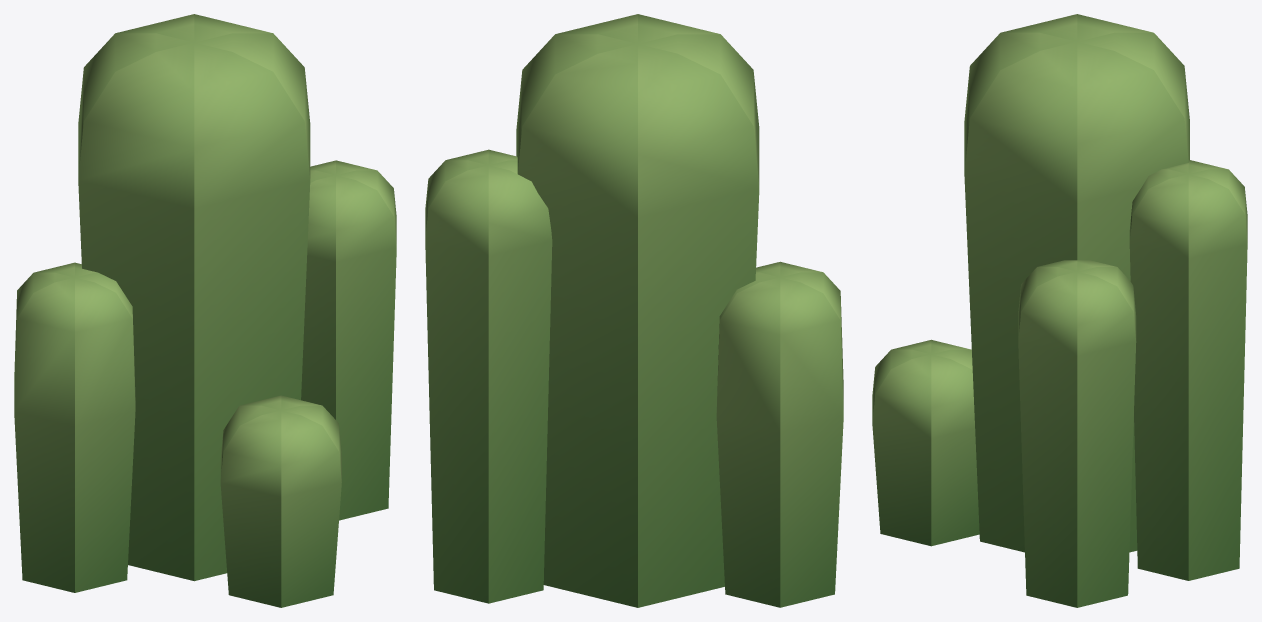
Rendered from cactus.glb.
The picture shows the model from 3 angles, left to right: view 1: azimuth 30°, elevation 25°; view 2: azimuth 150°, elevation 25°; view 3: azimuth 270°, elevation 25°; orthographic projection. The views are drawn at different scales.
Parts seen in each view (by area): view 1: cactus_C; view 2: cactus_C; view 3: cactus_C.
Part boxes in pixels (box(x1,y1,x2,y2)): cactus_C: box(14, 14, 396, 607); cactus_C: box(425, 14, 843, 607); cactus_C: box(872, 14, 1247, 607).
Bounding box in the file's own units: 0.3306 × 0.3959 × 0.2829.
1 material, 1 textured.
